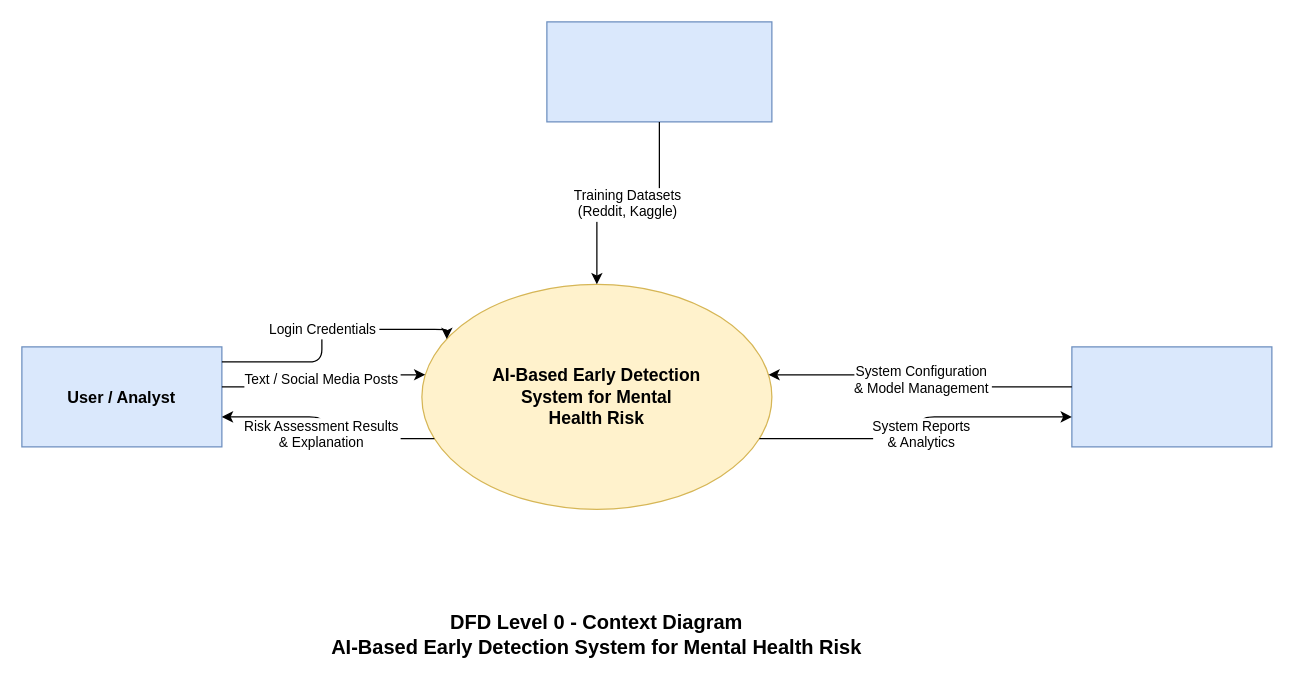
This 1294x694 diagram has some shape labels left out. The box of each missing label's shape, as (x1, y1, x2, y2) in pixels:
Admin: (1071, 346, 1272, 447)
Social Media Dataset Source: (546, 21, 772, 122)
